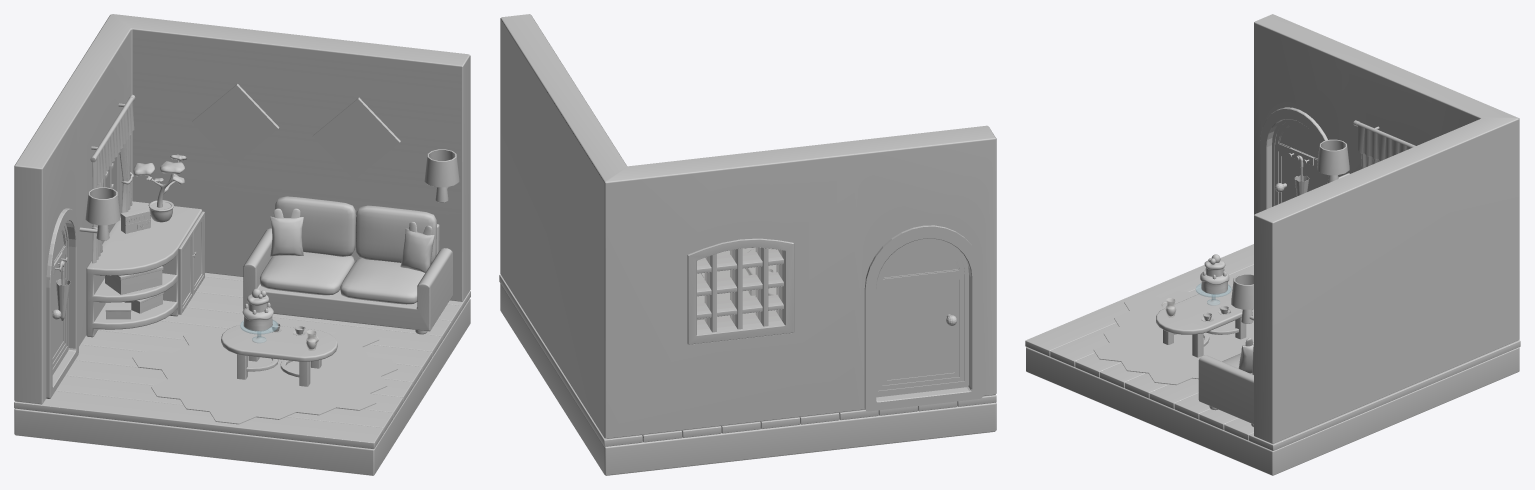
File: Living_Room_10.fbx
3 renders of one model, left to right at view 1: azimuth 30°, elevation 25°; view 2: azimuth 150°, elevation 25°; view 3: azimuth 270°, elevation 25°, orthographic. The views are drawn at different scales.
Parts seen in each view (by area): view 1: Room_10_Wall_1, Room_10_Floor_2, Room_10_Couch_1, Room_10_Carpet_1, Room_10_Floor_1, Room_10_Cabinet_1, Room_10_Door_1, Room_10_Table_1, Room_10_Picture_1, Room_10_Picture_2, Room_10_Curtains_1, Room_10_Lamp_1 (+8 smaller); view 2: Room_10_Wall_1, Room_10_Door_1, Room_10_Floor_1, Room_10_Window_1, Room_10_Floor_2; view 3: Room_10_Wall_1, Room_10_Floor_1, Room_10_Floor_2, Room_10_Carpet_1, Room_10_Door_1, Room_10_Table_1, Room_10_Couch_1, Room_10_Curtains_1, Room_10_Cake_1, Room_10_Lamp_1, Room_10_Lamp_2.
Part boxes in pixels (x1,y1,x2,y2): Room_10_Wall_1: (14,14,470,404); Room_10_Floor_2: (14,273,470,449); Room_10_Couch_1: (243,196,452,334); Room_10_Carpet_1: (132,319,397,424); Room_10_Floor_1: (14,299,470,475); Room_10_Cabinet_1: (86,201,204,337); Room_10_Door_1: (46,208,78,398); Room_10_Table_1: (221,324,337,386); Room_10_Picture_1: (312,97,400,180); Room_10_Picture_2: (191,83,279,165); Room_10_Curtains_1: (90,94,135,263); Room_10_Lamp_1: (79,187,120,240); Room_10_Wall_1: (500,14,996,438); Room_10_Door_1: (864,225,982,411); Room_10_Floor_1: (500,283,996,475); Room_10_Window_1: (687,238,794,344); Room_10_Floor_2: (499,248,996,446); Room_10_Wall_1: (1254,14,1519,443); Room_10_Floor_1: (1026,347,1519,475); Room_10_Floor_2: (1025,244,1520,450); Room_10_Carpet_1: (1093,288,1253,385); Room_10_Door_1: (1260,107,1328,211); Room_10_Table_1: (1156,290,1246,357); Room_10_Couch_1: (1198,344,1253,427); Room_10_Curtains_1: (1353,120,1415,168); Room_10_Cake_1: (1195,254,1231,305); Room_10_Lamp_1: (1317,139,1349,183); Room_10_Lamp_2: (1231,274,1253,323).
Bounding box in the file's own units: 706 × 400 × 706.
